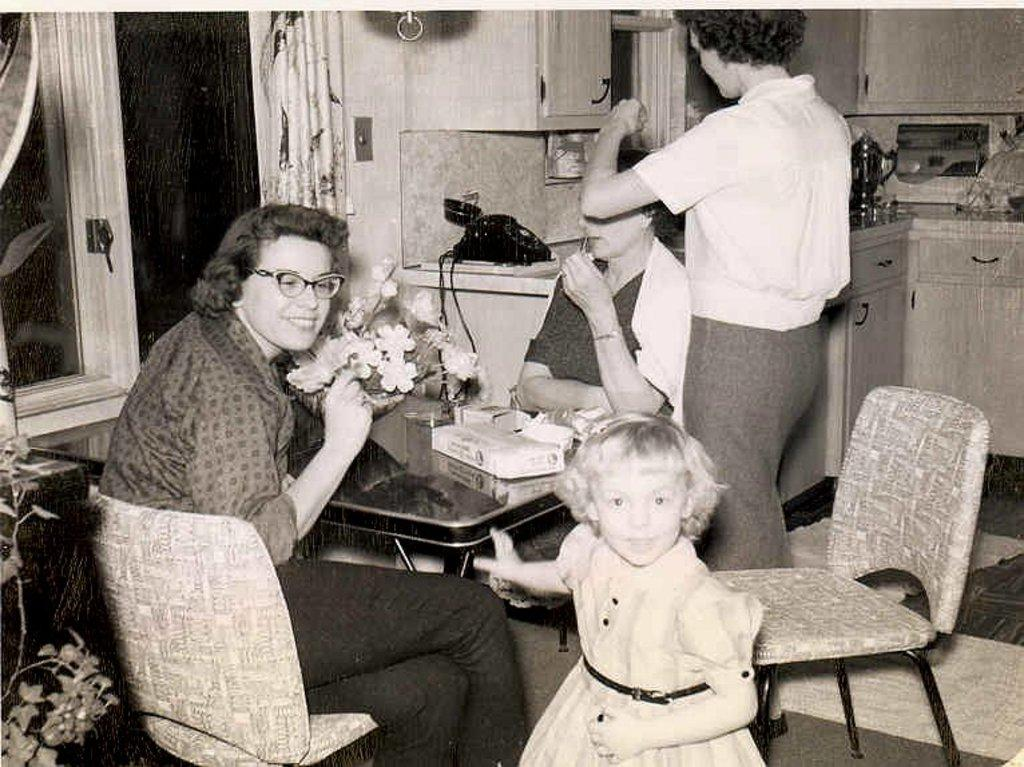Chair: (745, 396, 985, 767), (83, 477, 381, 766)
